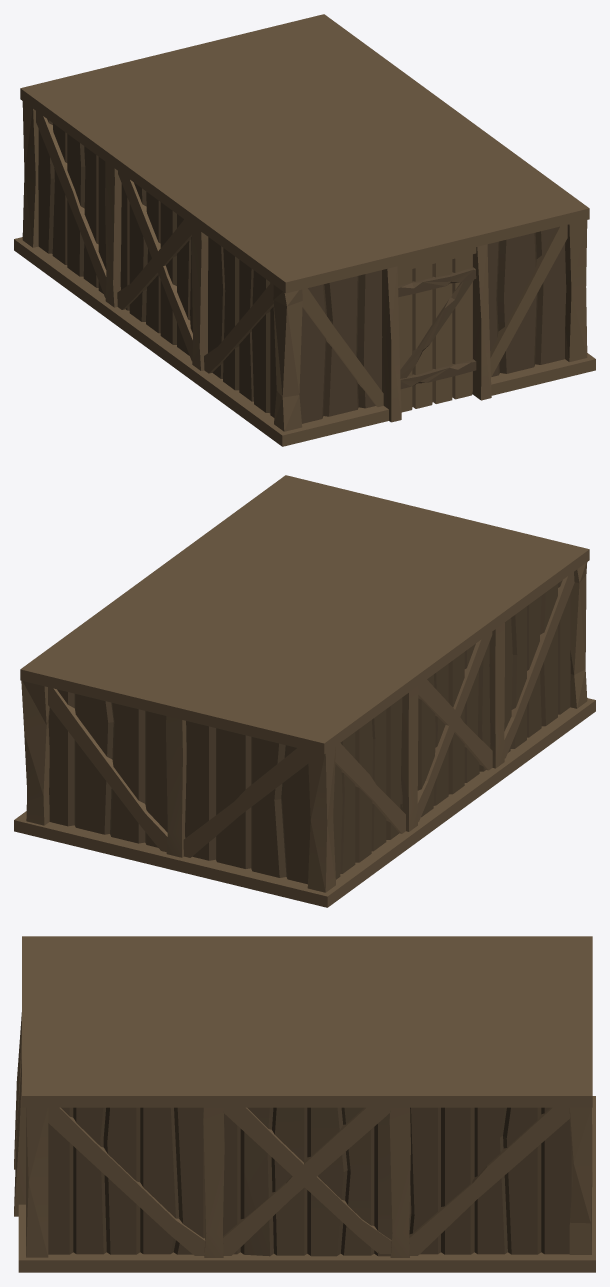
The picture shows the model from 3 angles, top to bottom: view 1: azimuth 30°, elevation 25°; view 2: azimuth 150°, elevation 25°; view 3: azimuth 270°, elevation 25°; orthographic projection. The views are drawn at different scales.
Visible parts, largest first — view 1: SM_Bld_Base_Long_Door_02; view 2: SM_Bld_Base_Long_Door_02; view 3: SM_Bld_Base_Long_Door_02.
Part boxes in pixels (x1=…): SM_Bld_Base_Long_Door_02: x1=14, y1=14, x2=595, y2=446; SM_Bld_Base_Long_Door_02: x1=14, y1=475, x2=595, y2=907; SM_Bld_Base_Long_Door_02: x1=14, y1=936, x2=595, y2=1272.
Bounding box in the file's own units: 4.57 × 2.26 × 6.84.
Materials: 1 (1 with a texture image).
